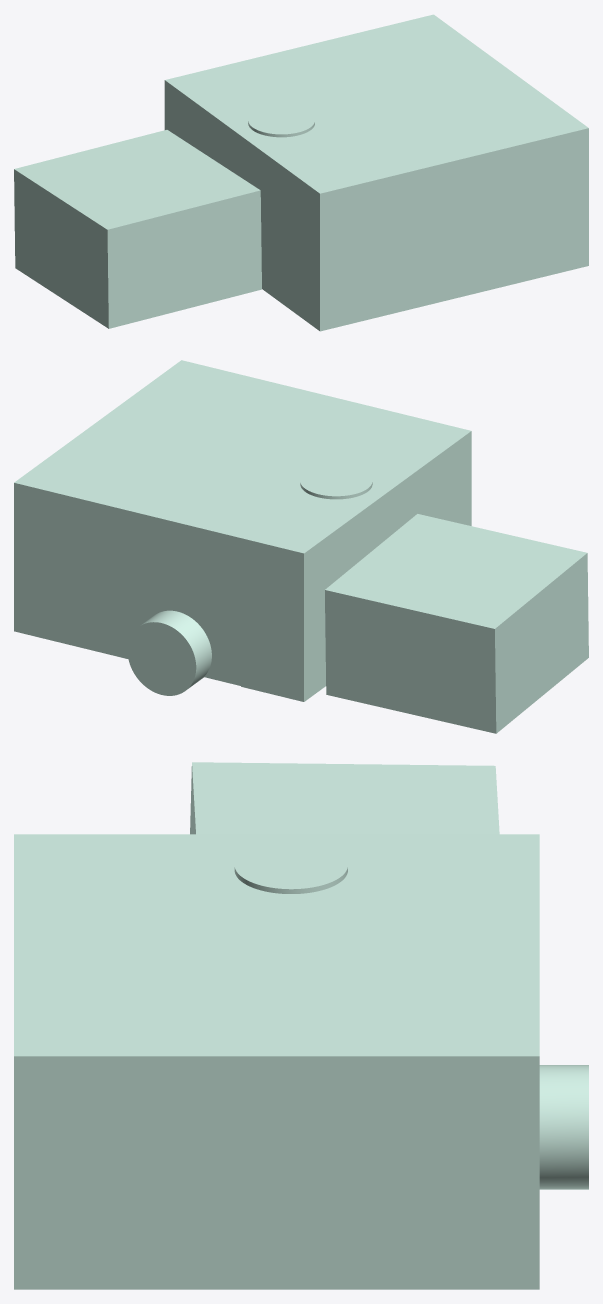
3 renders of one model, top to bottom at view 1: azimuth 30°, elevation 25°; view 2: azimuth 150°, elevation 25°; view 3: azimuth 270°, elevation 25°, orthographic. The views are drawn at different scales.
Visible parts, largest first — view 1: Renderer Node; view 2: Renderer Node; view 3: Renderer Node.
Part boxes in pixels (bbox=[...]): Renderer Node: bbox=[14, 14, 588, 331]; Renderer Node: bbox=[14, 360, 588, 733]; Renderer Node: bbox=[14, 762, 588, 1289].
Bounding box in the file's own units: 2.41 × 0.8104 × 1.64.
